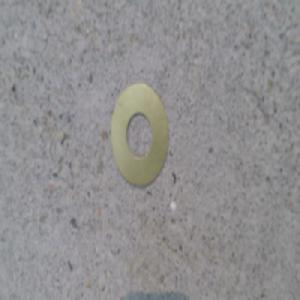Washer: (109, 81, 168, 188)
